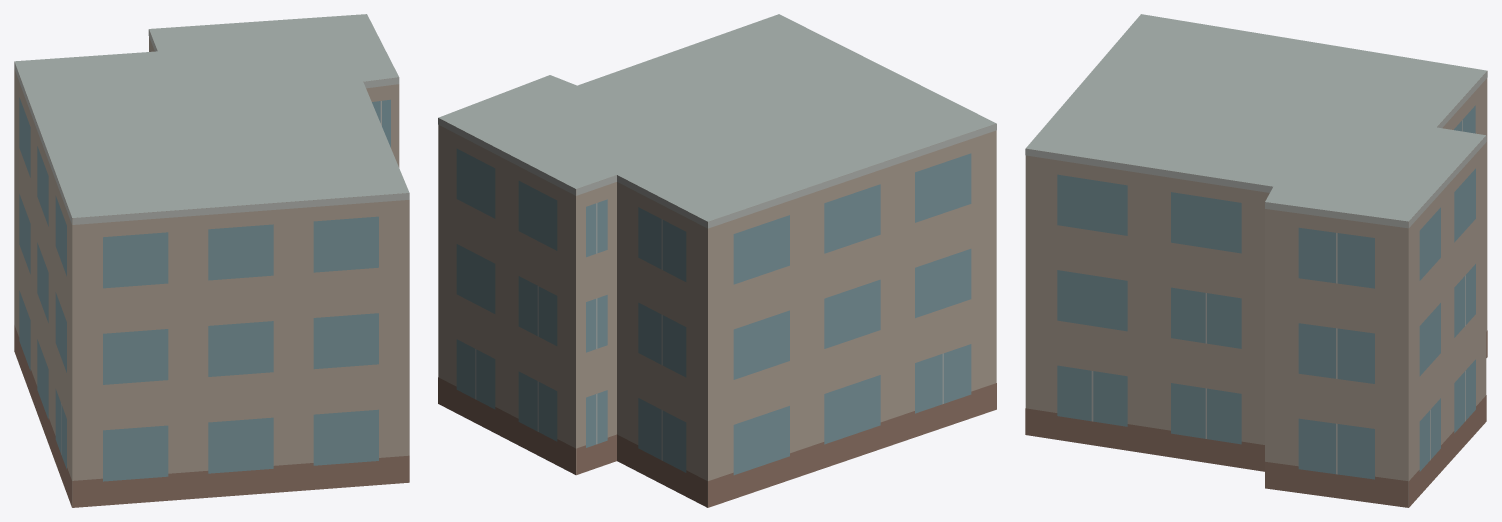
File: survey-upis-32889262.glb
3 renders of one model, left to right at view 1: azimuth 30°, elevation 25°; view 2: azimuth 150°, elevation 25°; view 3: azimuth 270°, elevation 25°, orthographic.
Visible parts, largest first — view 1: survey-upis-32889262.tmp; view 2: survey-upis-32889262.tmp; view 3: survey-upis-32889262.tmp.
Boxes of the visible parts, box(x1,y1,x2,y2) form: survey-upis-32889262.tmp: box(14, 14, 409, 507); survey-upis-32889262.tmp: box(438, 14, 996, 507); survey-upis-32889262.tmp: box(1025, 14, 1487, 507).
Size of the model in its own units: 15.86 by 10.2 by 14.92.
